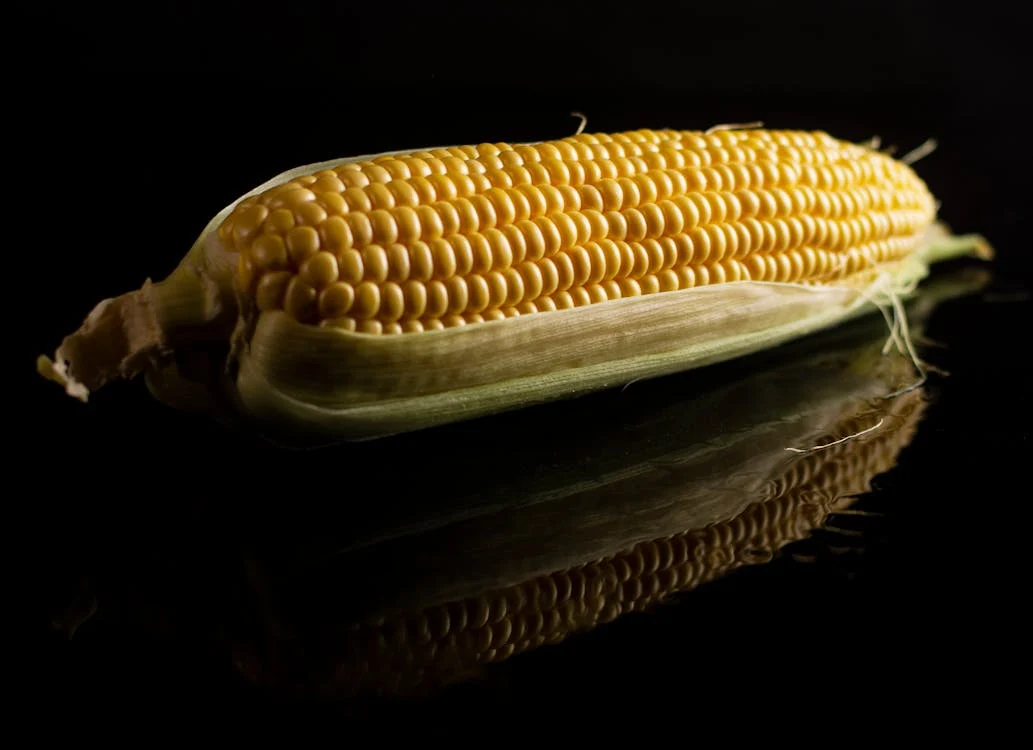corn: (15, 115, 1033, 423)
